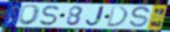8: (66, 6, 83, 26)
D: (106, 6, 130, 28)
J: (85, 5, 108, 28)
O: (16, 4, 42, 26)
S: (128, 5, 152, 29), (38, 5, 60, 27)
